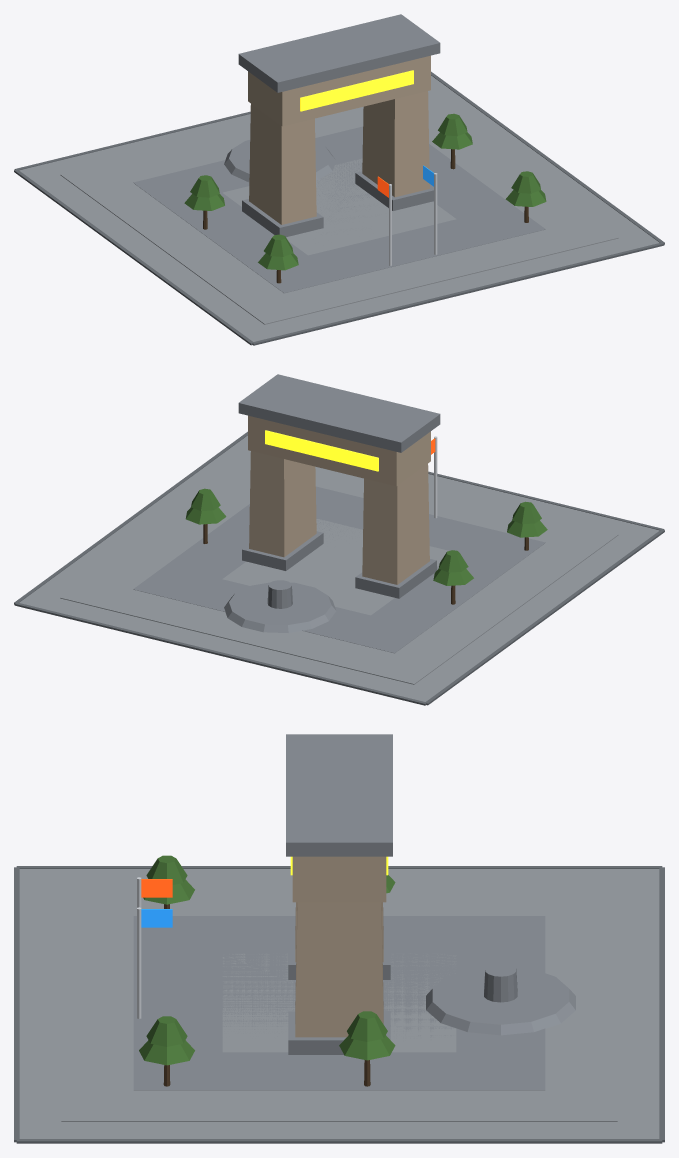
File: block_plaza.glb
3 renders of one model, top to bottom at view 1: azimuth 30°, elevation 25°; view 2: azimuth 150°, elevation 25°; view 3: azimuth 270°, elevation 25°, orthographic. The views are drawn at different scales.
Visible parts, largest first — view 1: BlockPlaza; view 2: BlockPlaza; view 3: BlockPlaza.
Boxes of the visible parts, left/top/right/bottom form: BlockPlaza: left=14, top=14, right=664, bottom=345; BlockPlaza: left=14, top=374, right=664, bottom=705; BlockPlaza: left=14, top=734, right=664, bottom=1143.
Size of the model in its own units: 58.5 by 21.58 by 58.5.
